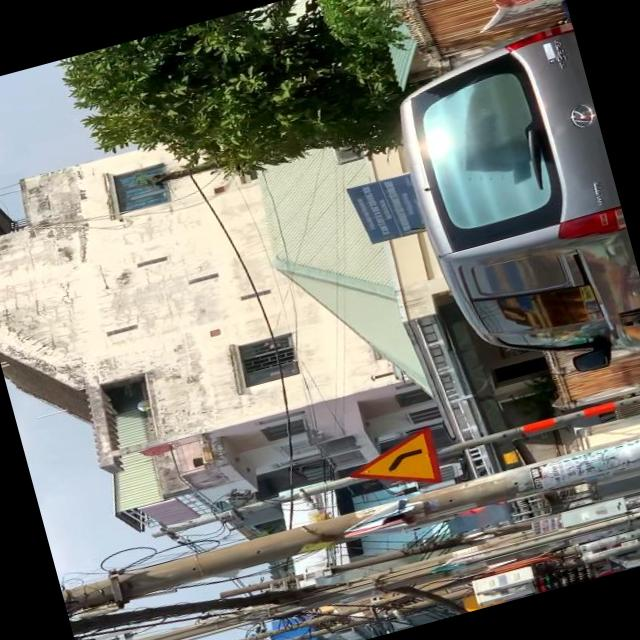W-201a: (338, 425, 444, 503)
